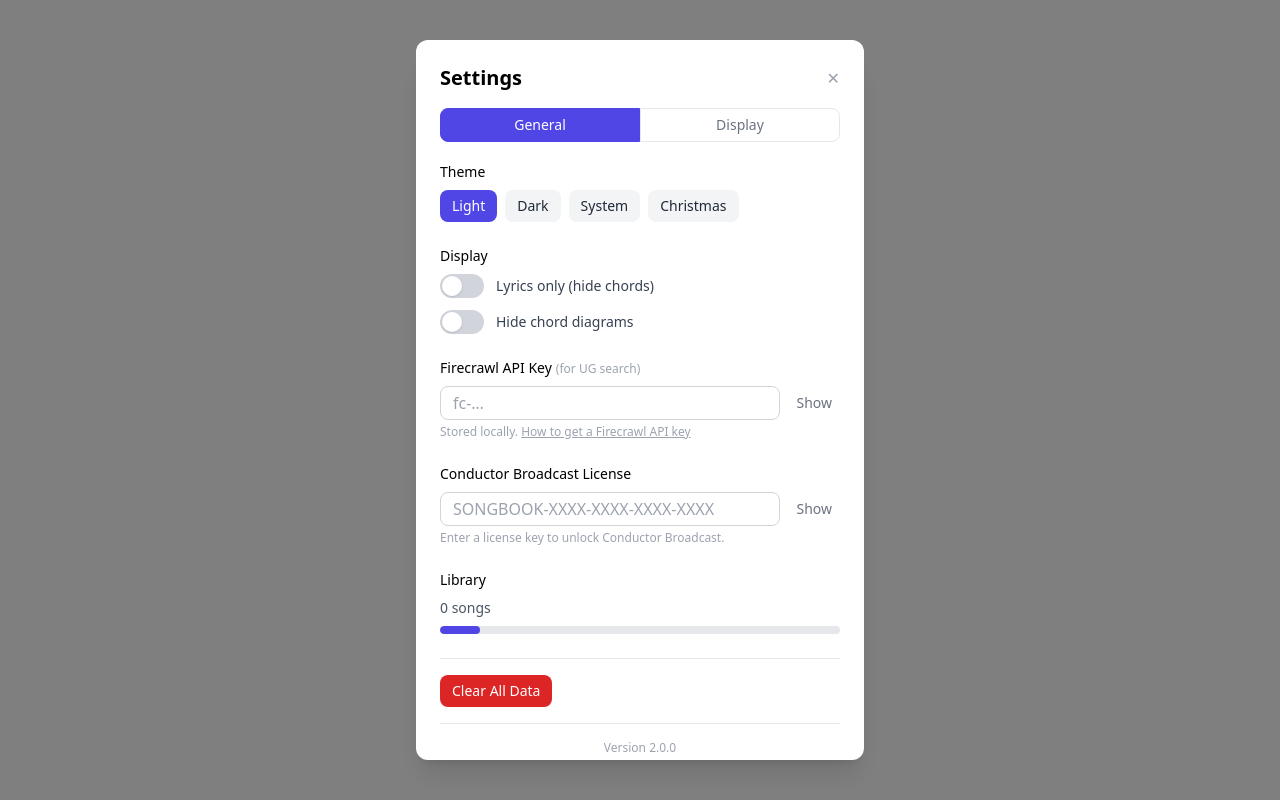
Test: SettingsPanel › clicking Show toggles button label to Hide and input type to text
The width and height of the screenshot is (1280, 800).
Click the button named "Show Firecrawl API key" at [814, 403], box [788, 386, 840, 420]
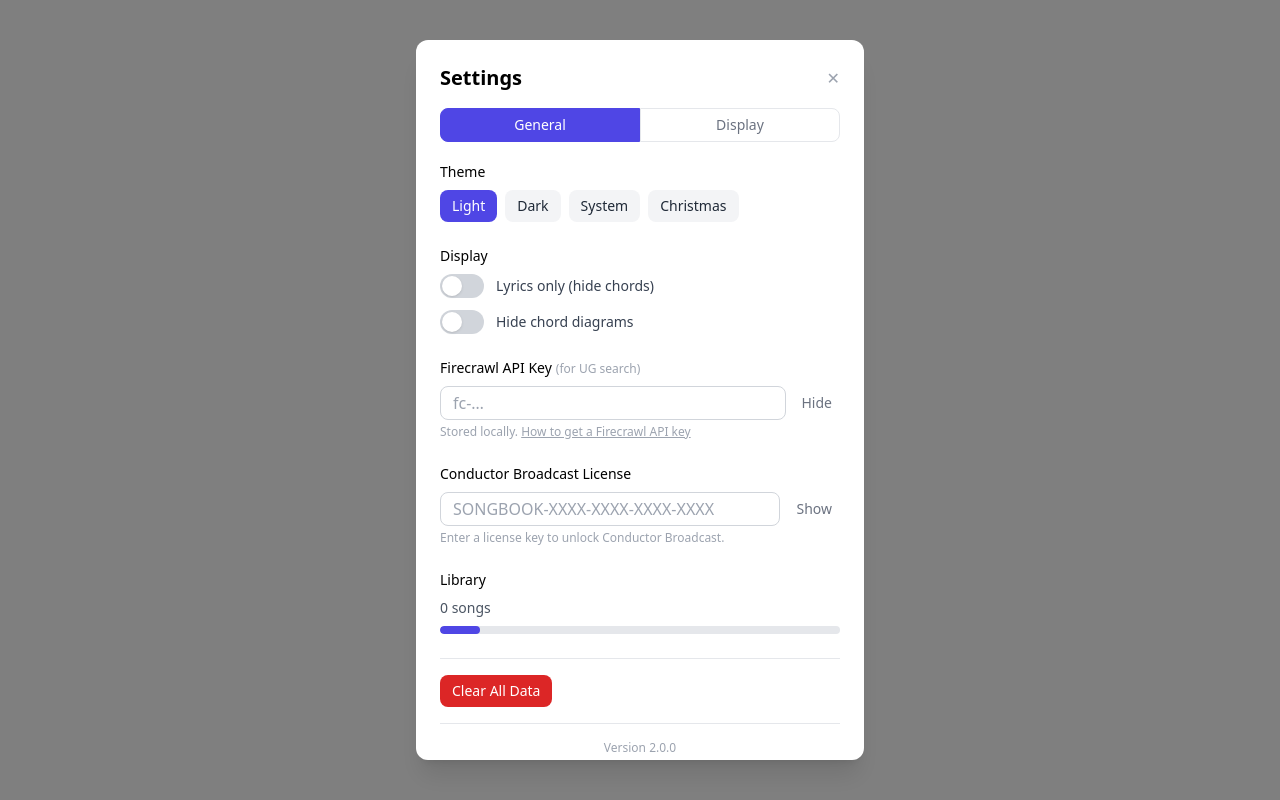
Check: the button named "Hide Firecrawl API key" reads "Hide", box [794, 386, 840, 420]
